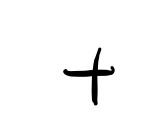plus: (64, 49, 116, 105)
